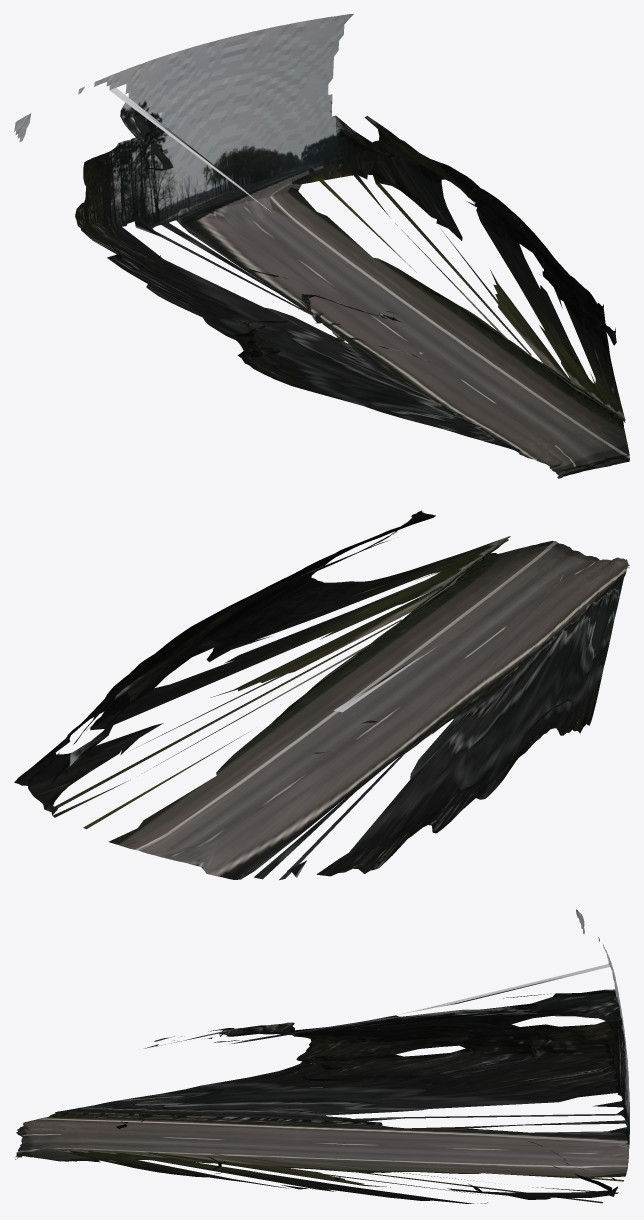
The picture shows the model from 3 angles, top to bottom: view 1: azimuth 30°, elevation 25°; view 2: azimuth 150°, elevation 25°; view 3: azimuth 270°, elevation 25°; orthographic projection. The views are drawn at different scales.
Parts seen in each view (by area): view 1: defaultobject; view 2: defaultobject; view 3: defaultobject.
Boxes of the visible parts, x1,y1,x2,y2 form: defaultobject: [14, 14, 629, 478]; defaultobject: [14, 510, 629, 879]; defaultobject: [15, 909, 629, 1203].
Size of the model in its own units: 28.79 by 12.09 by 44.45.
1 material, 1 textured.
